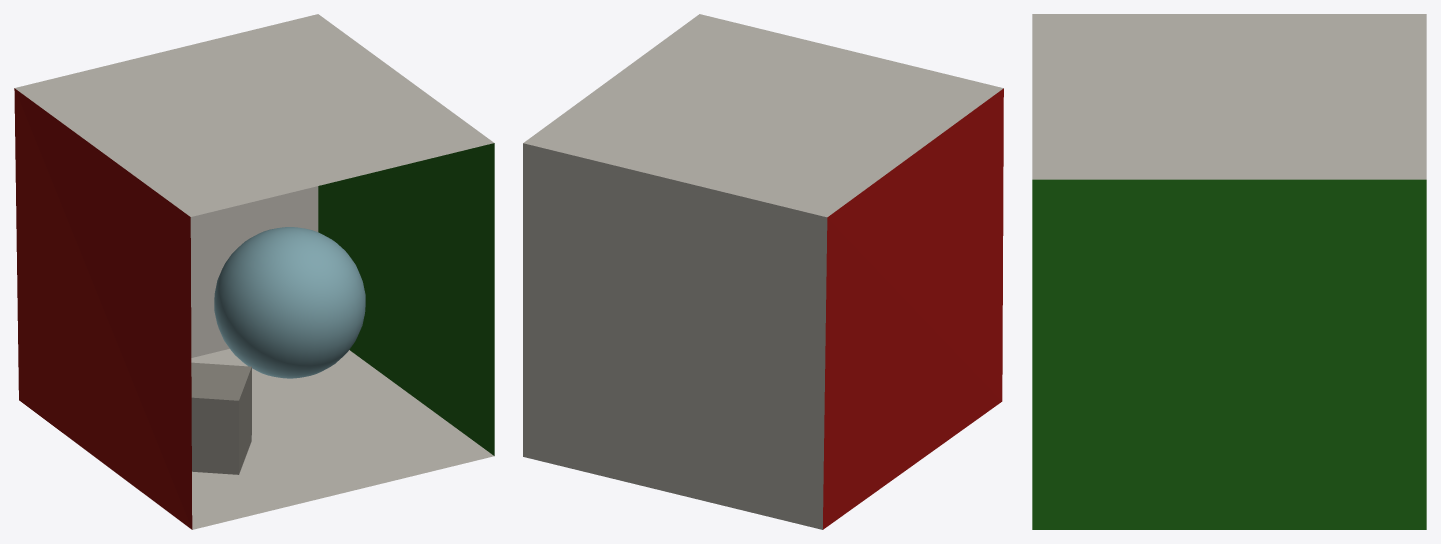
The model's file is CornellBox-Glossy.obj.
3 views of the same model, side by side, from view 1: azimuth 30°, elevation 25°; view 2: azimuth 150°, elevation 25°; view 3: azimuth 270°, elevation 25° (orthographic). The views are drawn at different scales.
Visible parts, largest first — view 1: leftWall, ceiling, rightWall, floor, sphere, backWall, shortBox; view 2: backWall, leftWall, ceiling; view 3: rightWall, ceiling.
Boxes of the visible parts, x1,y1,x2,y2 form: leftWall: [14, 88, 192, 529]; ceiling: [15, 14, 493, 216]; rightWall: [318, 143, 494, 455]; floor: [191, 349, 493, 529]; sphere: [214, 227, 365, 378]; backWall: [190, 186, 318, 357]; shortBox: [191, 362, 251, 474]; backWall: [523, 143, 827, 529]; leftWall: [823, 88, 1003, 529]; ceiling: [523, 14, 1003, 217]; rightWall: [1032, 179, 1426, 529]; ceiling: [1032, 14, 1426, 179].
Bounding box in the file's own units: 2.02 × 1.99 × 2.03.
